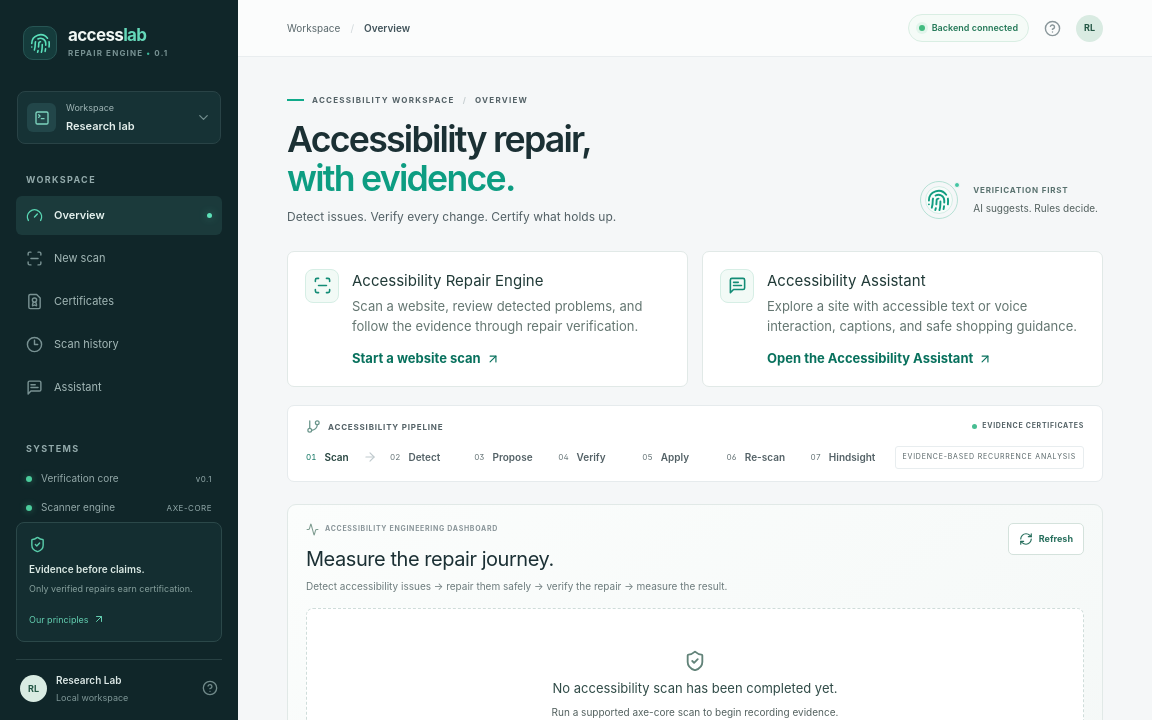
Test case: dashboard › retrieves and displays the available backend certificate
Expected: the text "Backend connected" is shown, [908,14,1029,42]
Click the link "Certificates". click: point(70, 301)
box: [26,292,114,310]
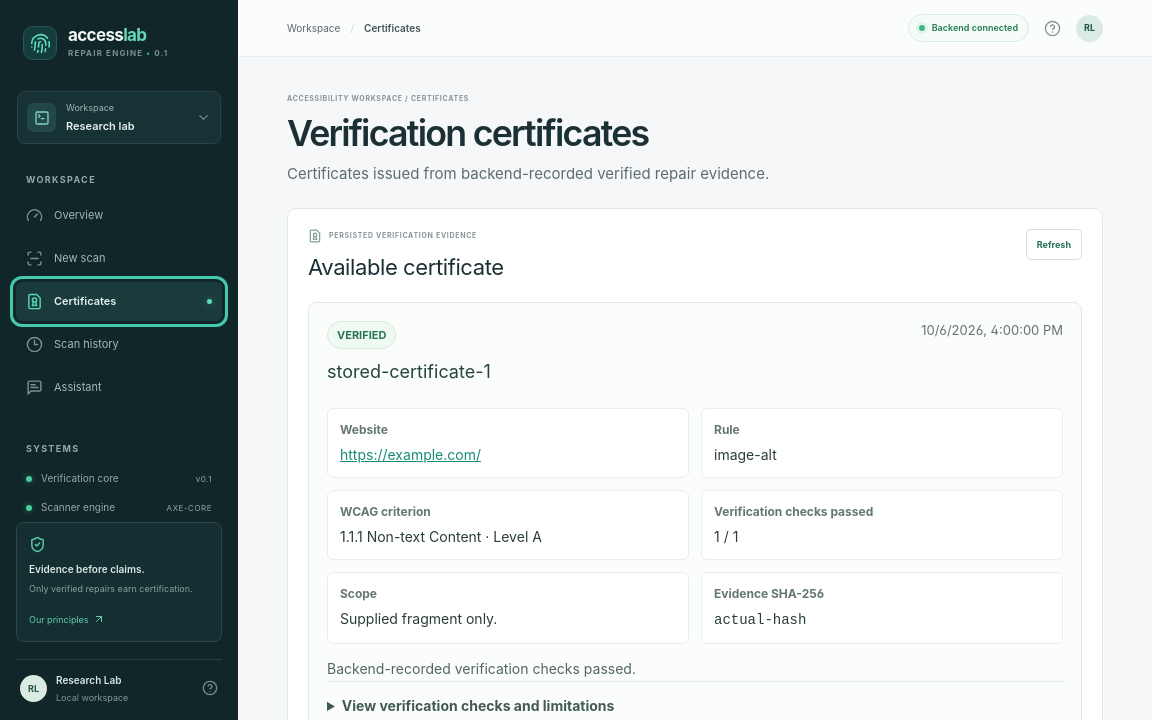
Result: the heading "stored-certificate-1" is shown at [327,358,491,385]
Result: the text "1.1.1 Non-text Content · Level A" is shown at [340,528,542,545]
